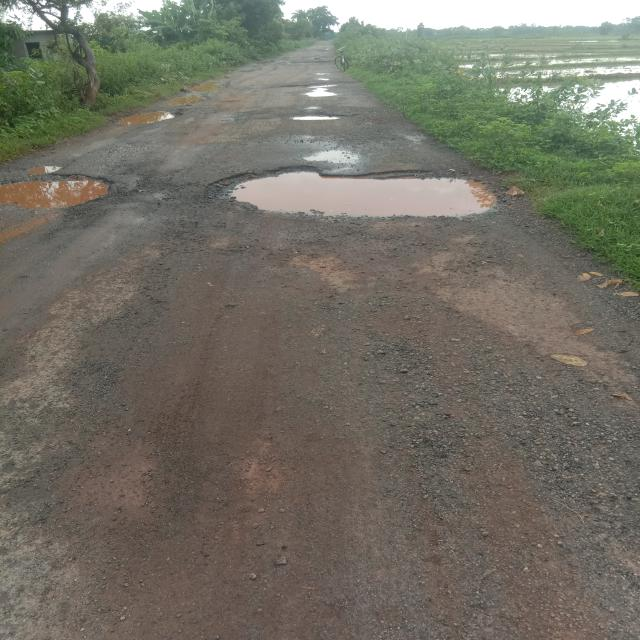potholes: (204, 160, 508, 226), (0, 166, 124, 234), (289, 70, 345, 127), (108, 107, 181, 133)
